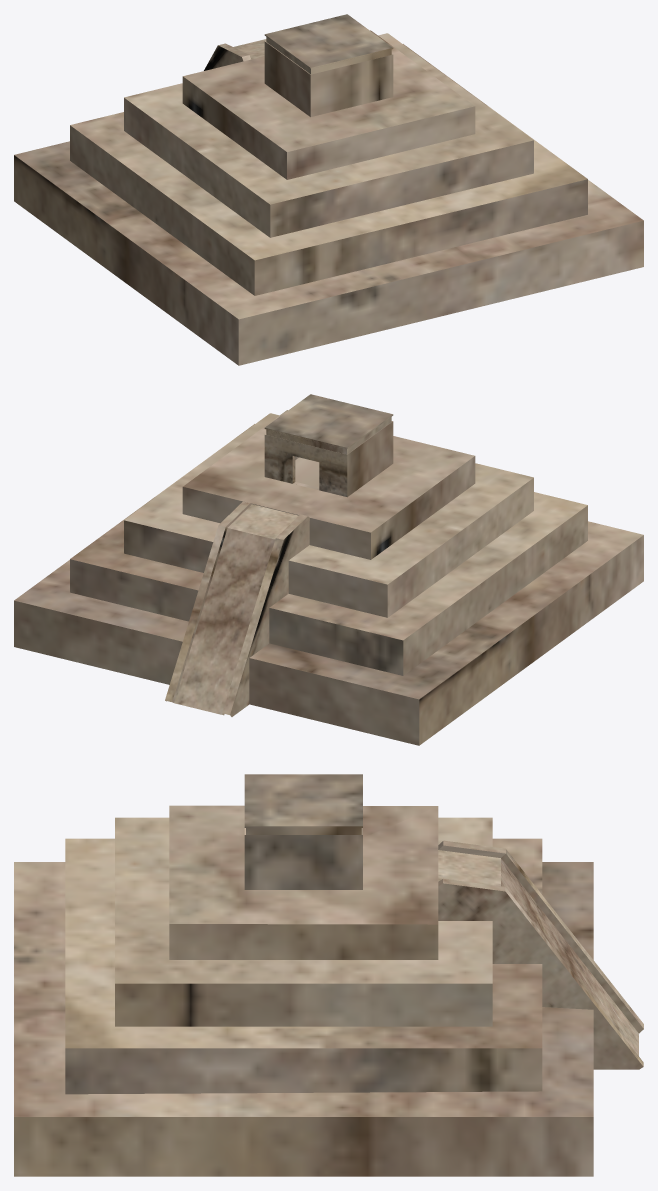
The model's file is Piramide.fbx.
The picture shows the model from 3 angles, top to bottom: view 1: azimuth 30°, elevation 25°; view 2: azimuth 150°, elevation 25°; view 3: azimuth 270°, elevation 25°; orthographic projection. The views are drawn at different scales.
Visible parts, largest first — view 1: Cube; view 2: Cube; view 3: Cube.
Part boxes in pixels (box(x1,y1,x2,y2)): Cube: box(14, 14, 643, 365); Cube: box(14, 394, 643, 745); Cube: box(14, 774, 643, 1176).
Size of the model in its own units: 3220 by 1467 by 3362.
